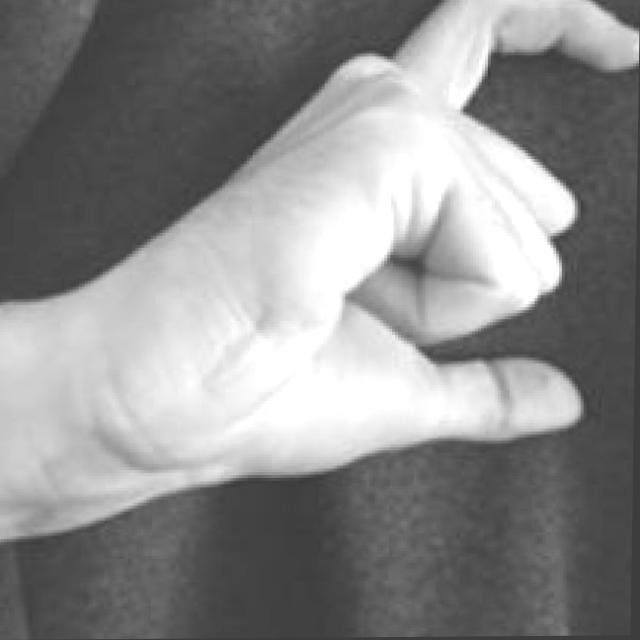C: (88, 0, 640, 479)
